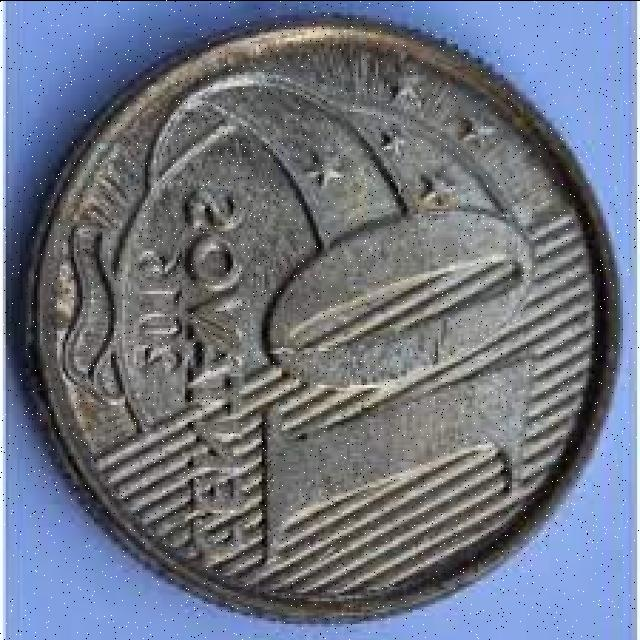10 cent: (36, 35, 626, 615)
